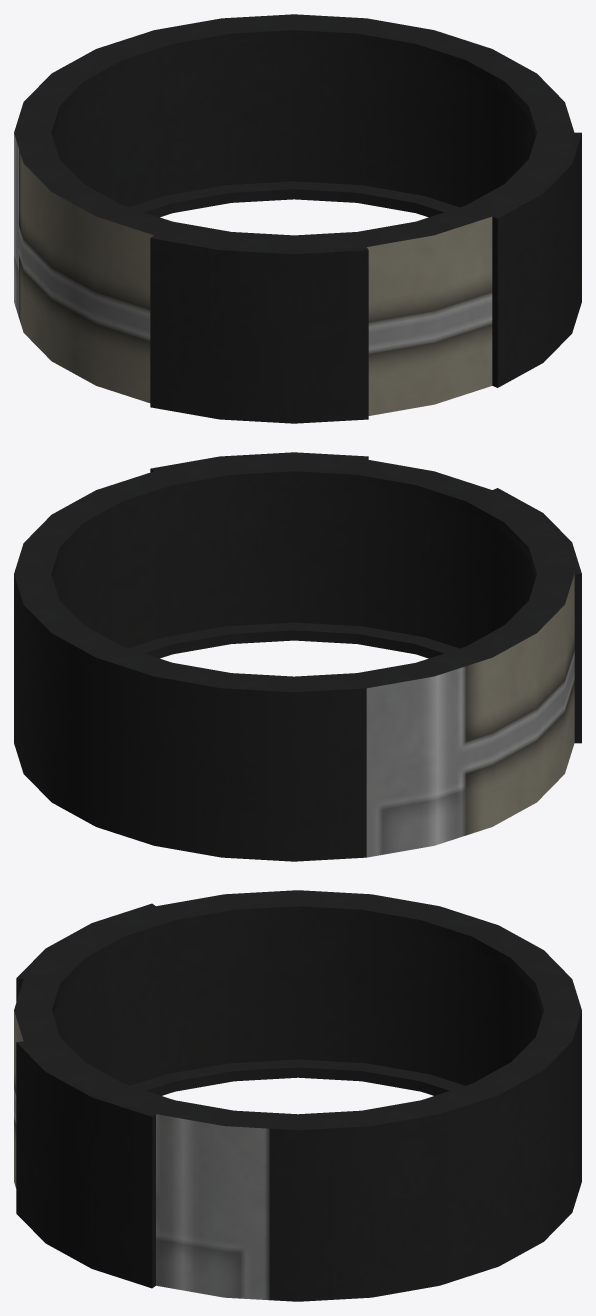
Rendered from vega_fuselage_s1p5_1.obj.
The picture shows the model from 3 angles, top to bottom: view 1: azimuth 30°, elevation 25°; view 2: azimuth 150°, elevation 25°; view 3: azimuth 270°, elevation 25°; orthographic projection.
Visible parts, largest first — view 1: 1; view 2: 1; view 3: 1.
Part boxes in pixels (<box>): 1: <box>14,14,581,423</box>; 1: <box>14,452,581,861</box>; 1: <box>14,890,581,1301</box>.
Size of the model in its own units: 1.88 by 0.625 by 1.88.
